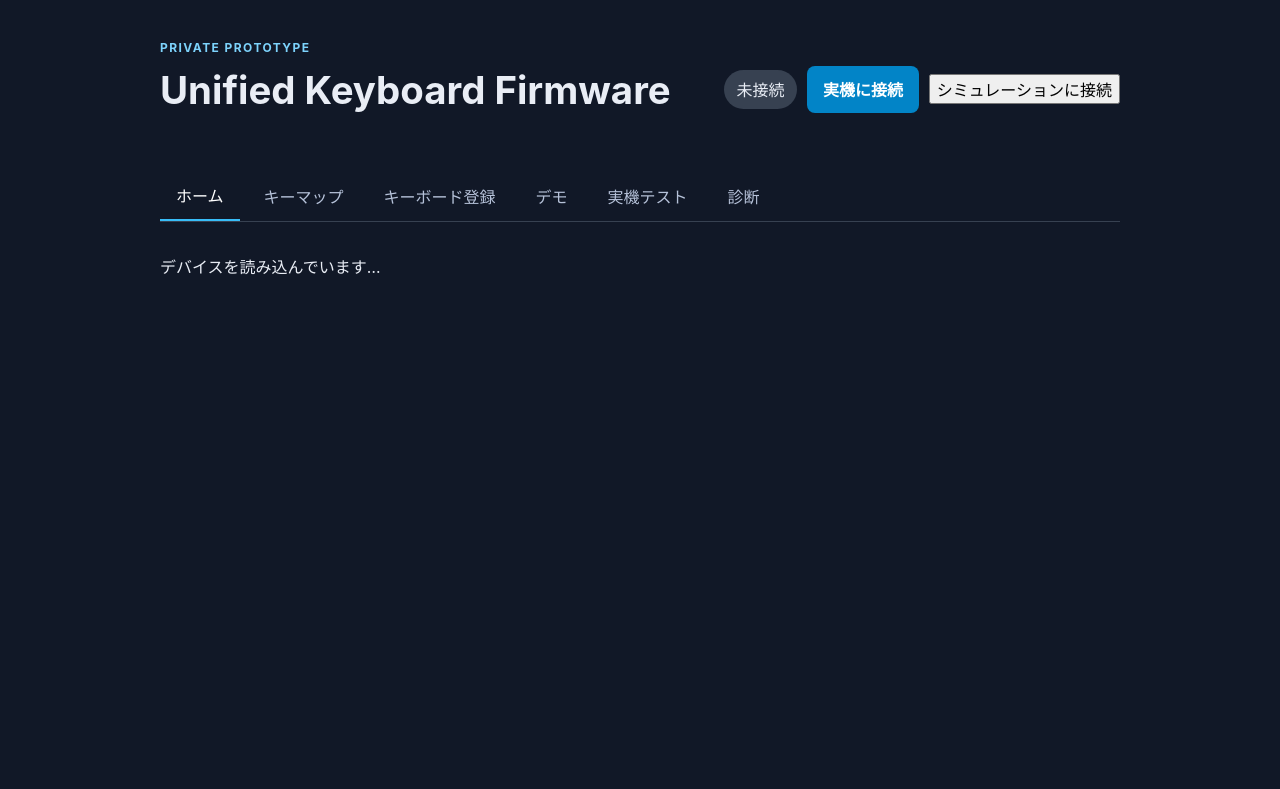
Test case: bridge configuration › shows the BLE and virtual sources with their fixed slots
The image size is (1280, 789).
Click the button "シミュレーションに接続" at (1024, 89), box [929,74,1120,104]
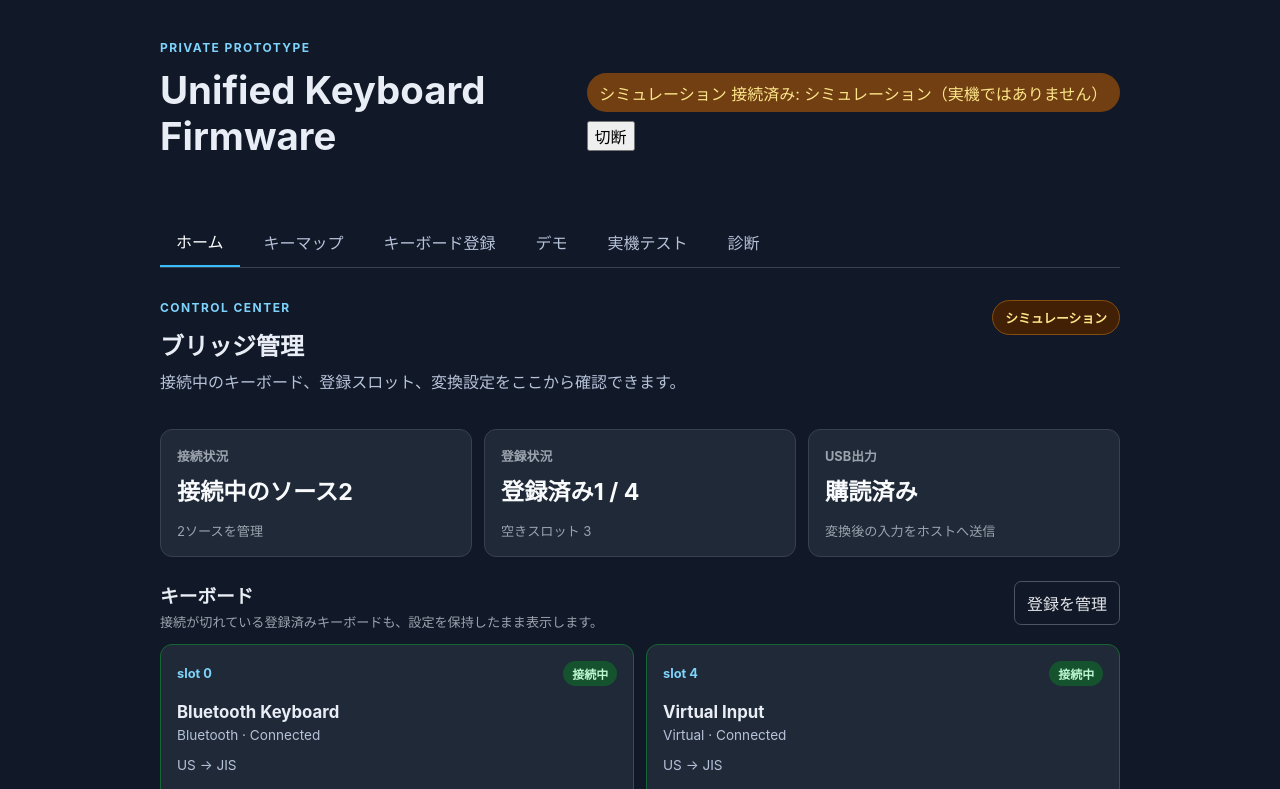
expect the heading "Bluetooth Keyboard" is shown: met, box [177,702,339,722]
expect the heading "Virtual Input" is shown: met, box [663,702,764,722]
expect the text "slot 0" is shown: met, box [177,666,212,681]
